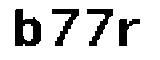7: (84, 4, 115, 51), (46, 6, 79, 47)
b: (10, 5, 43, 50)
r: (116, 15, 142, 49)
